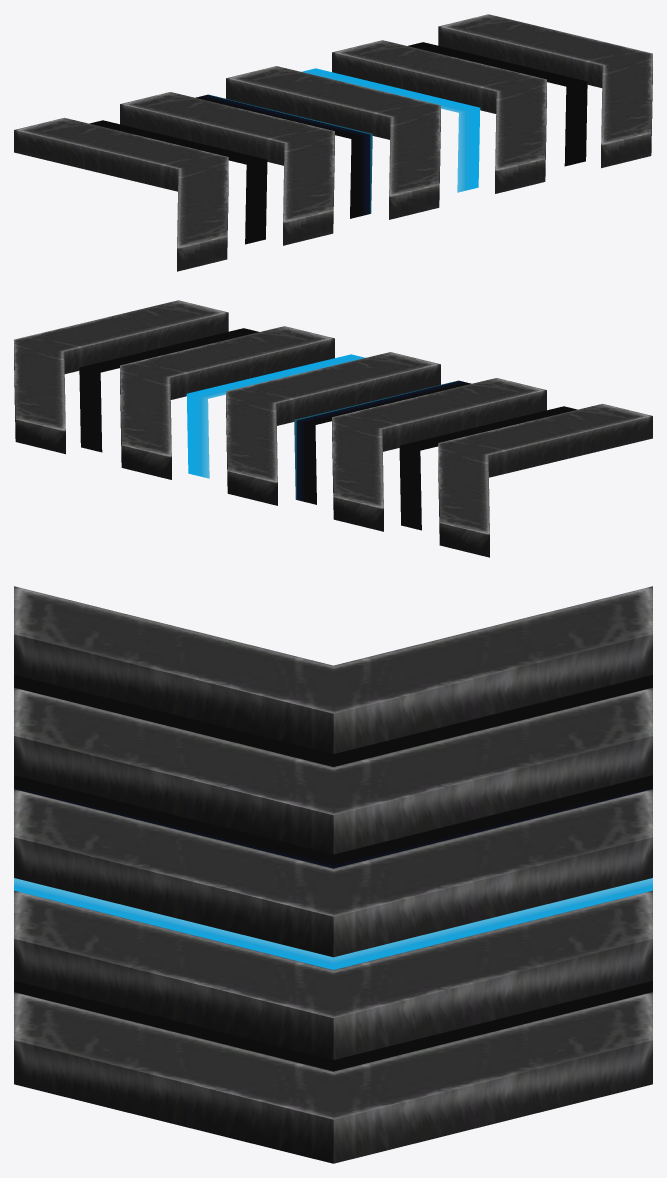
The model's file is tarsonisarrow.fbx.
The picture shows the model from 3 angles, top to bottom: view 1: azimuth 30°, elevation 25°; view 2: azimuth 150°, elevation 25°; view 3: azimuth 270°, elevation 25°; orthographic projection. The views are drawn at different scales.
Visible parts, largest first — view 1: Geoset_0, Geoset_1; view 2: Geoset_0, Geoset_1; view 3: Geoset_0, Geoset_1.
Boxes of the visible parts, left/top/right/bottom form: Geoset_0: left=14, top=14, right=652, bottom=271; Geoset_1: left=89, top=42, right=587, bottom=244; Geoset_0: left=14, top=300, right=652, bottom=557; Geoset_1: left=79, top=328, right=577, bottom=530; Geoset_0: left=14, top=586, right=652, bottom=1163; Geoset_1: left=14, top=675, right=652, bottom=1071.
Size of the model in its own units: 1.07 by 0.0413 by 0.542.
2 materials, 2 textured.
